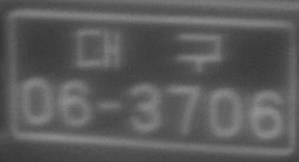0: (206, 87, 242, 138), (19, 75, 54, 126)
3: (128, 83, 161, 134)
6: (56, 77, 94, 127), (249, 88, 284, 139)
7: (166, 82, 199, 135)
대구_D: (74, 24, 225, 76)
